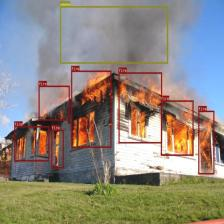fire: (118, 72, 162, 143), (71, 70, 111, 148), (161, 100, 193, 155), (14, 126, 49, 161), (38, 85, 70, 120), (198, 111, 214, 174), (52, 130, 64, 168)
smoke: (60, 6, 168, 63)
